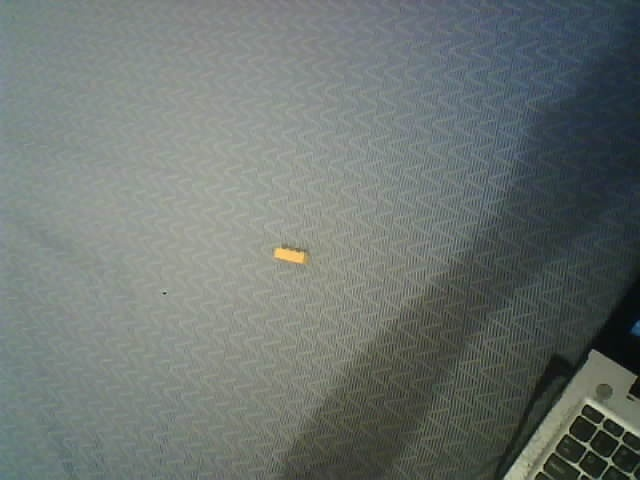lego: (272, 246, 310, 265)
